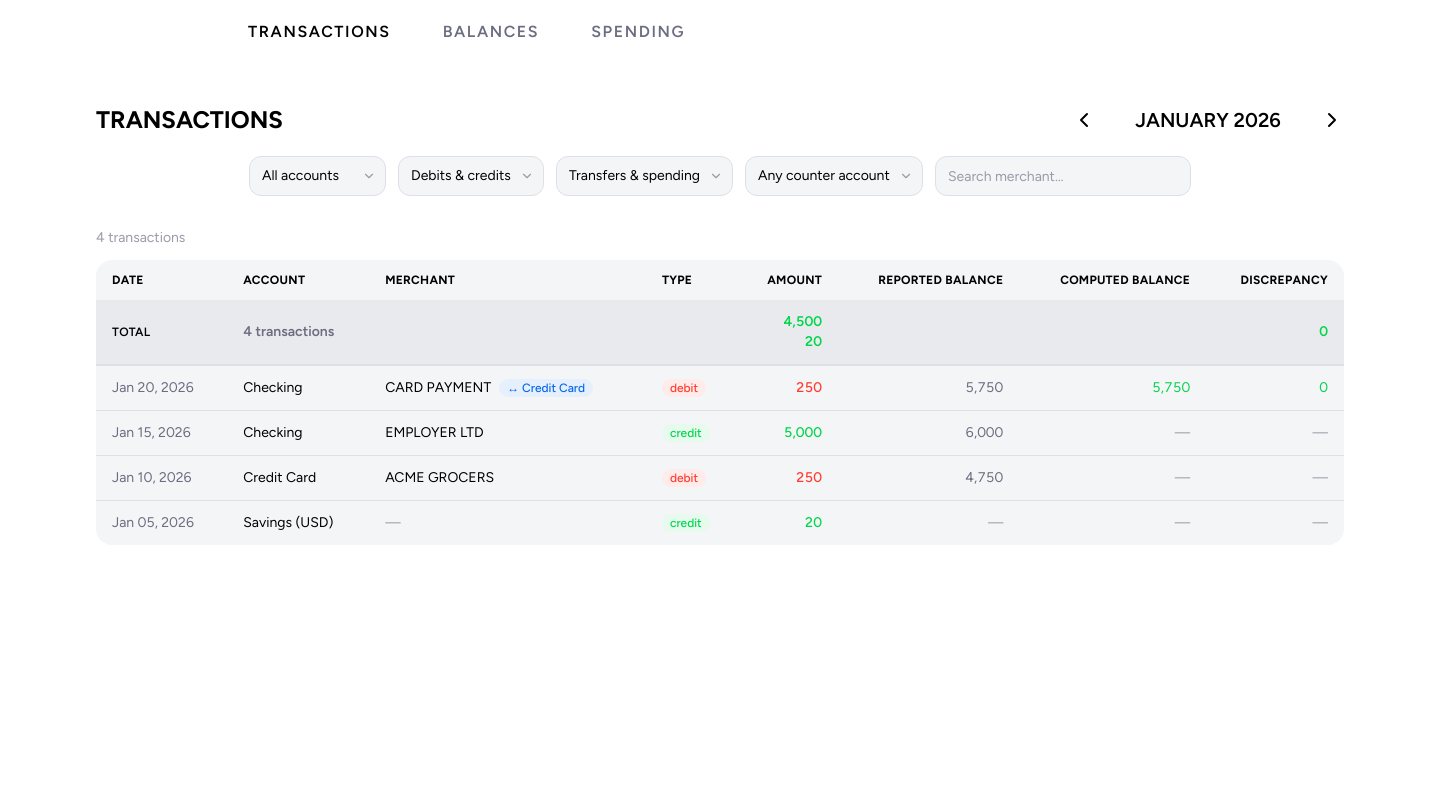
Test: Transaction detail modal › shows the counter account of a transfer and a debit in red
This screenshot has width=1440, height=810.
Click the row that starts with "Jan 20, 2026" at (720, 388), box [96,365,1344,410]
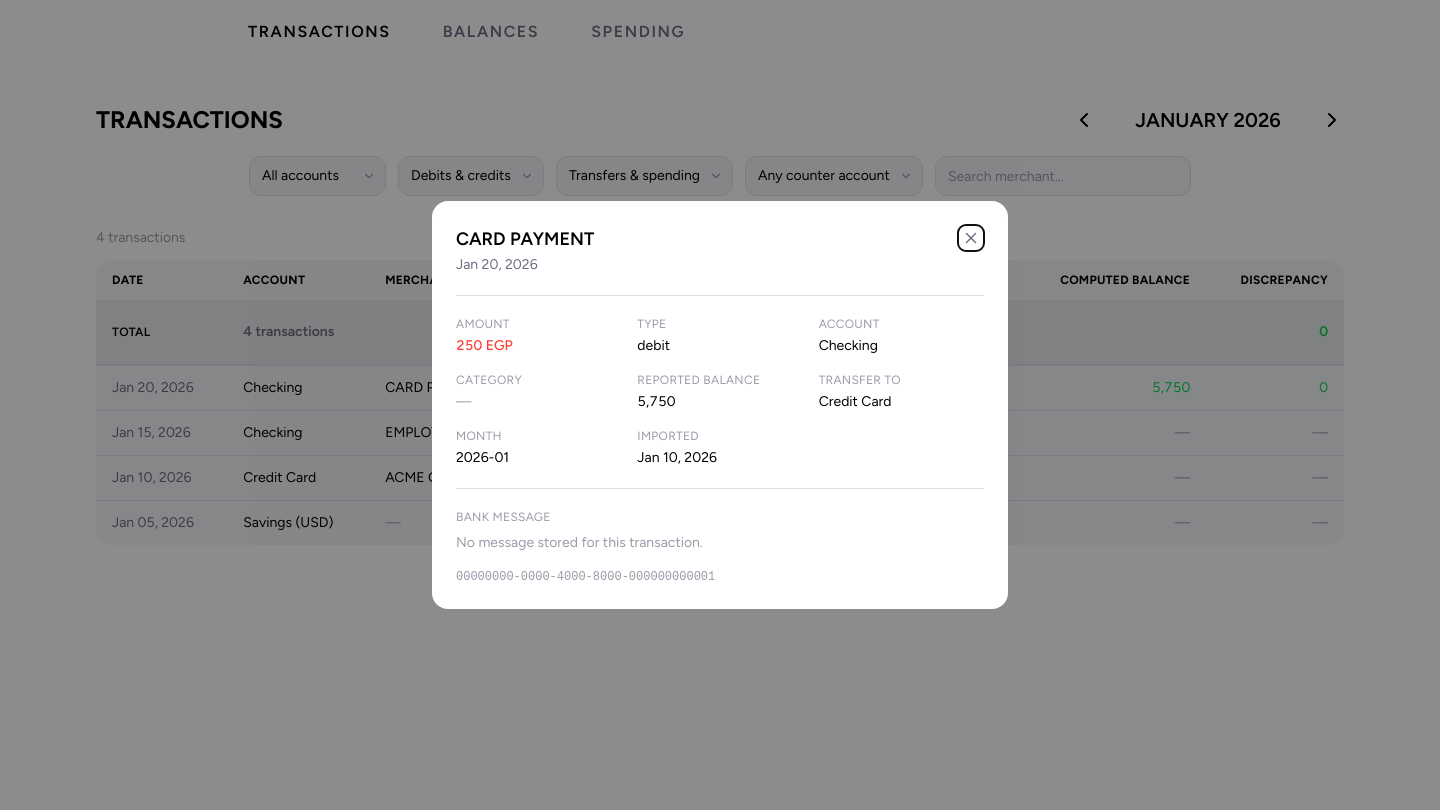
Now the text "Credit Card" is shown, box [819,393,892,410]
